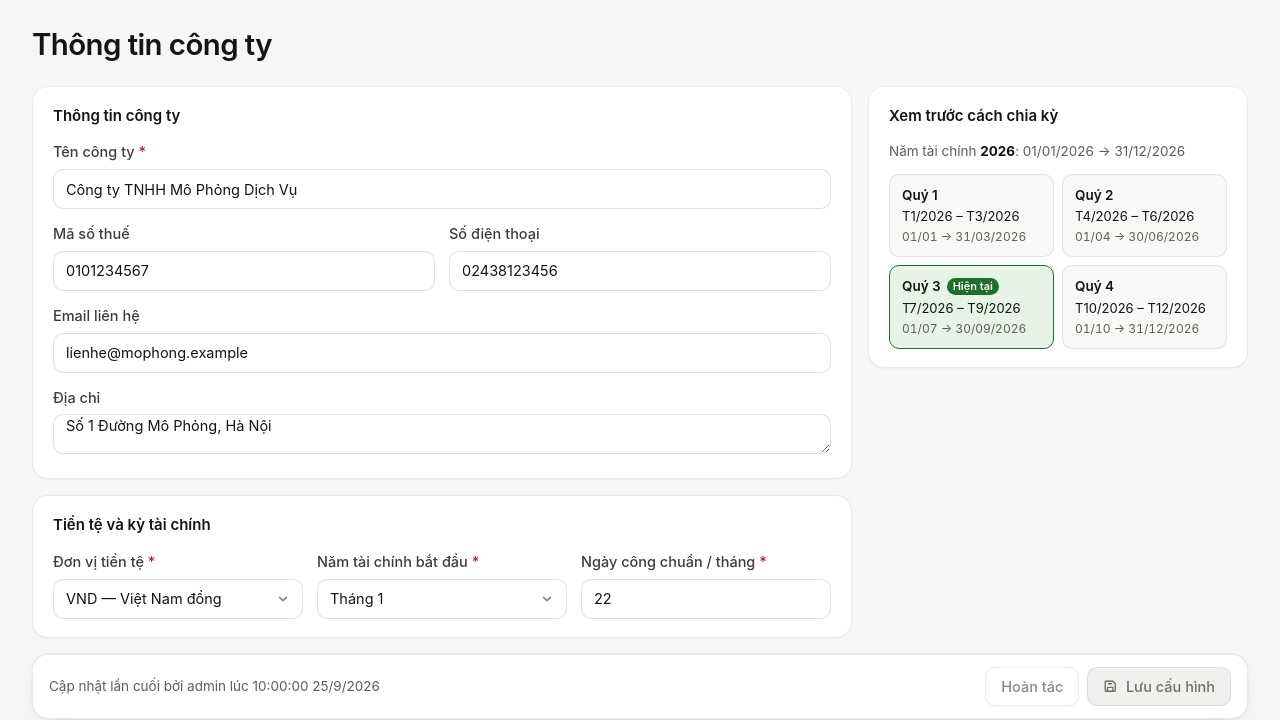
it: CompanySettingPage (NCL-15-CN-002) › TC-01: đặt tháng bắt đầu năm tài chính là tháng 4 → xem trước chia kỳ từ tháng 4 và gửi đúng payload
The image size is (1280, 720).
Select "Tháng 4" in the dropdown with test id "company-input-fiscal-start" at (442, 599), box [317,579,567,619]
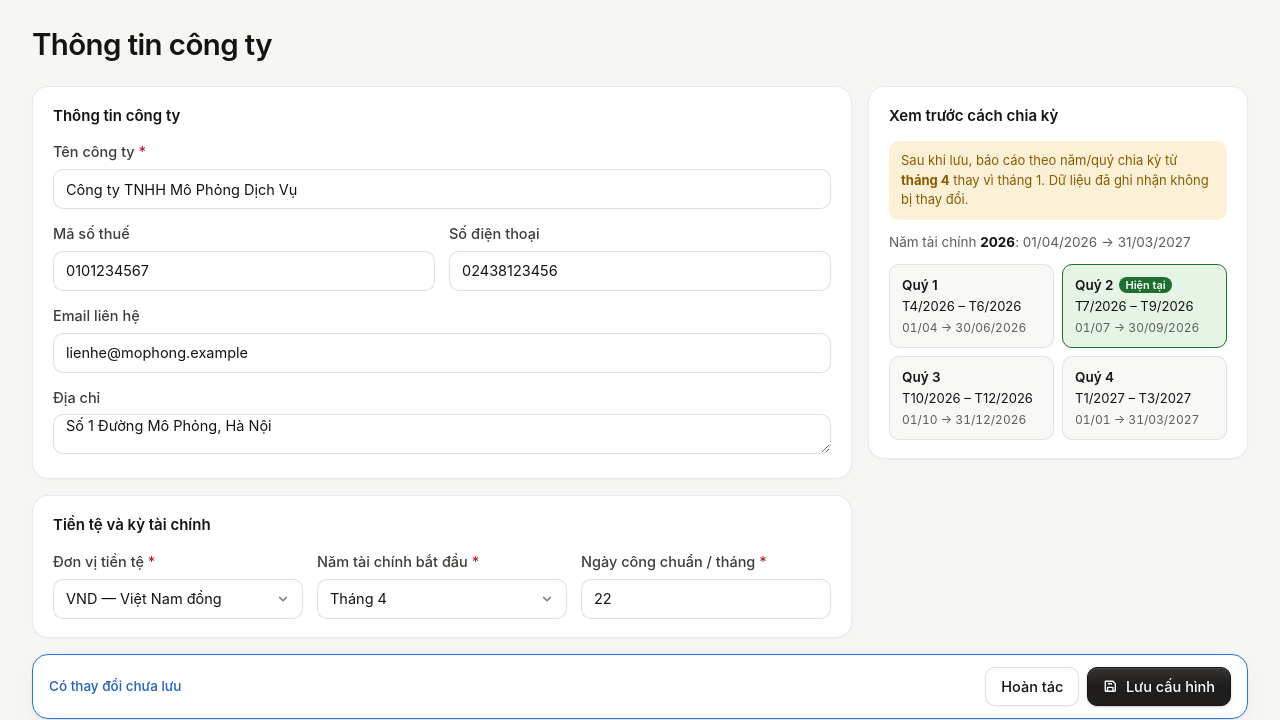
Expected: the element with test id "company-fiscal-change" shows "chia kỳ từ tháng 4 thay vì tháng 1", [889,141,1227,220]
Expected: the list item with test id "company-preview-q1" reads "Quý 1 T4/2026 – T6/2026 01/04 → 30/06/2026", [889,264,1054,348]
Expected: the list item with test id "company-preview-q4" reads "Quý 4 T1/2027 – T3/2027 01/01 → 31/03/2027", [1062,356,1227,440]
Click the button with test id "company-save" at (1159, 686), box [1087,667,1231,706]
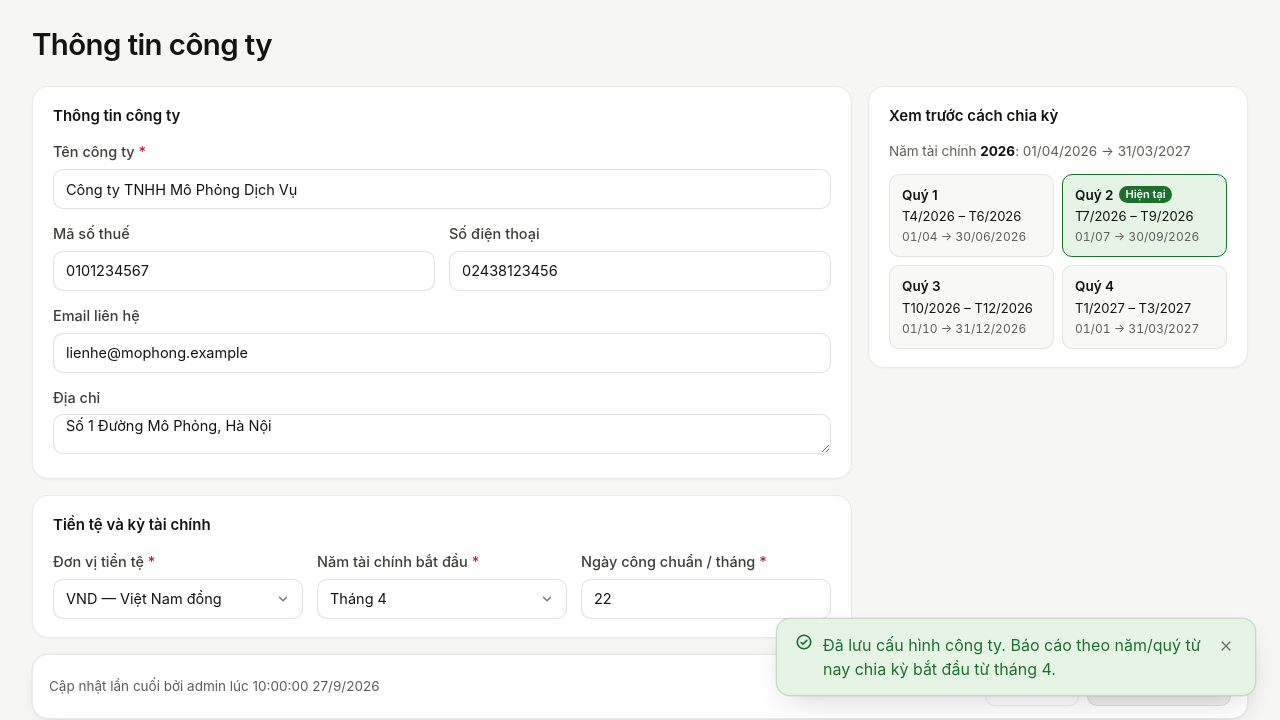
Expected: the text "chia kỳ bắt đầu từ tháng 4" is shown, [823,635,1201,679]
Expected: the button with test id "company-save" is disabled, [1087,667,1231,706]
